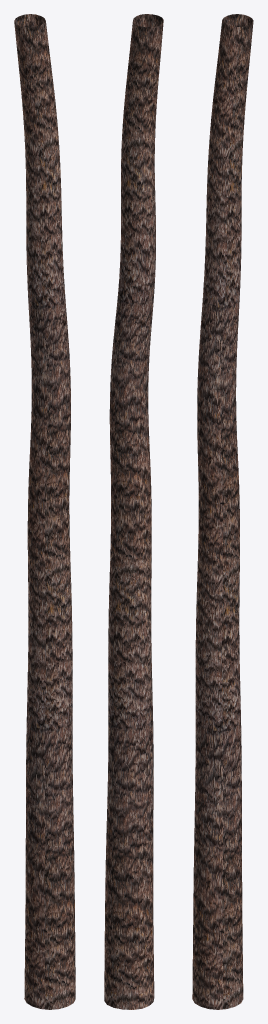
Rendered from pine_tree.fbx.
3 views of the same model, side by side, from view 1: azimuth 90°, elevation 25°; view 2: azimuth 210°, elevation 25°; view 3: azimuth 270°, elevation 25° (orthographic).
Parts seen in each view (by area): view 1: pine_tree; view 2: pine_tree; view 3: pine_tree.
Part boxes in pixels (left/top/right/bottom): pine_tree: left=14, top=14, right=75, bottom=1009; pine_tree: left=104, top=14, right=163, bottom=1009; pine_tree: left=192, top=14, right=253, bottom=1009.
Bounding box in the file's own units: 71.92 × 1507 × 85.6.
